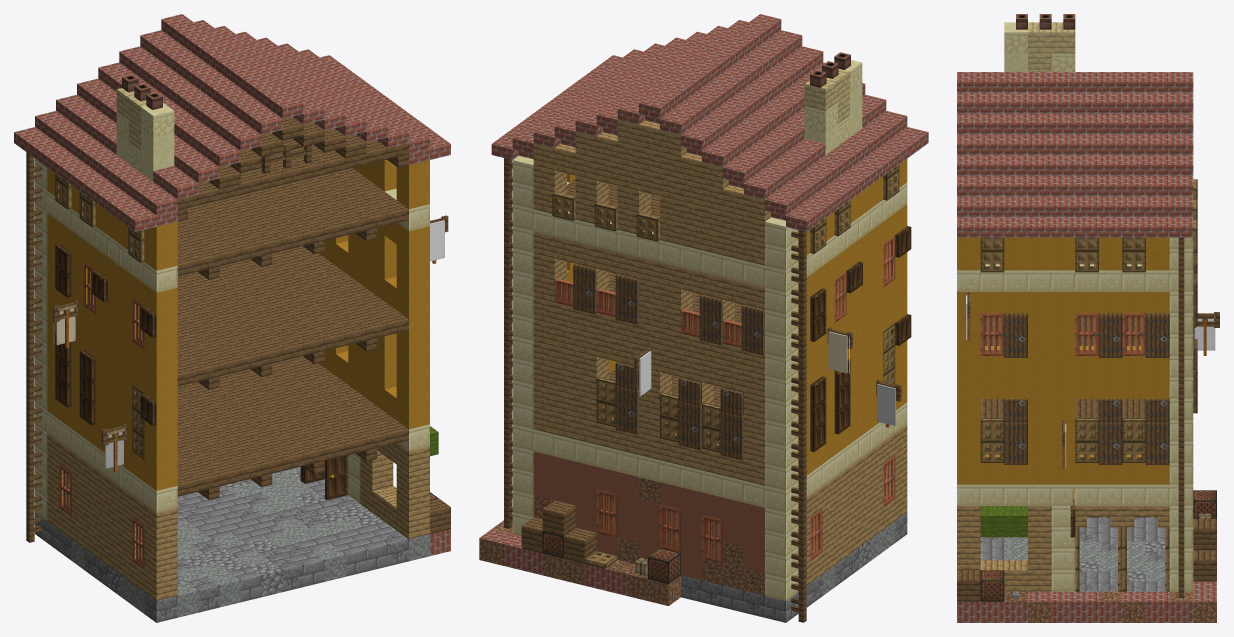
Rendered from nha-08.fbx.
3 views of the same model, side by side, from view 1: azimuth 30°, elevation 25°; view 2: azimuth 150°, elevation 25°; view 3: azimuth 270°, elevation 25° (orthographic). The views are drawn at different scales.
Parts seen in each view (by area): view 1: nha-08; view 2: nha-08; view 3: nha-08.
Part boxes in pixels (left/top/right/bottom): nha-08: left=14, top=14, right=450, bottom=622; nha-08: left=479, top=14, right=928, bottom=622; nha-08: left=957, top=14, right=1219, bottom=622.
Bounding box in the file's own units: 1525 × 2250 × 1113.
Materials: 1 (1 with a texture image).
